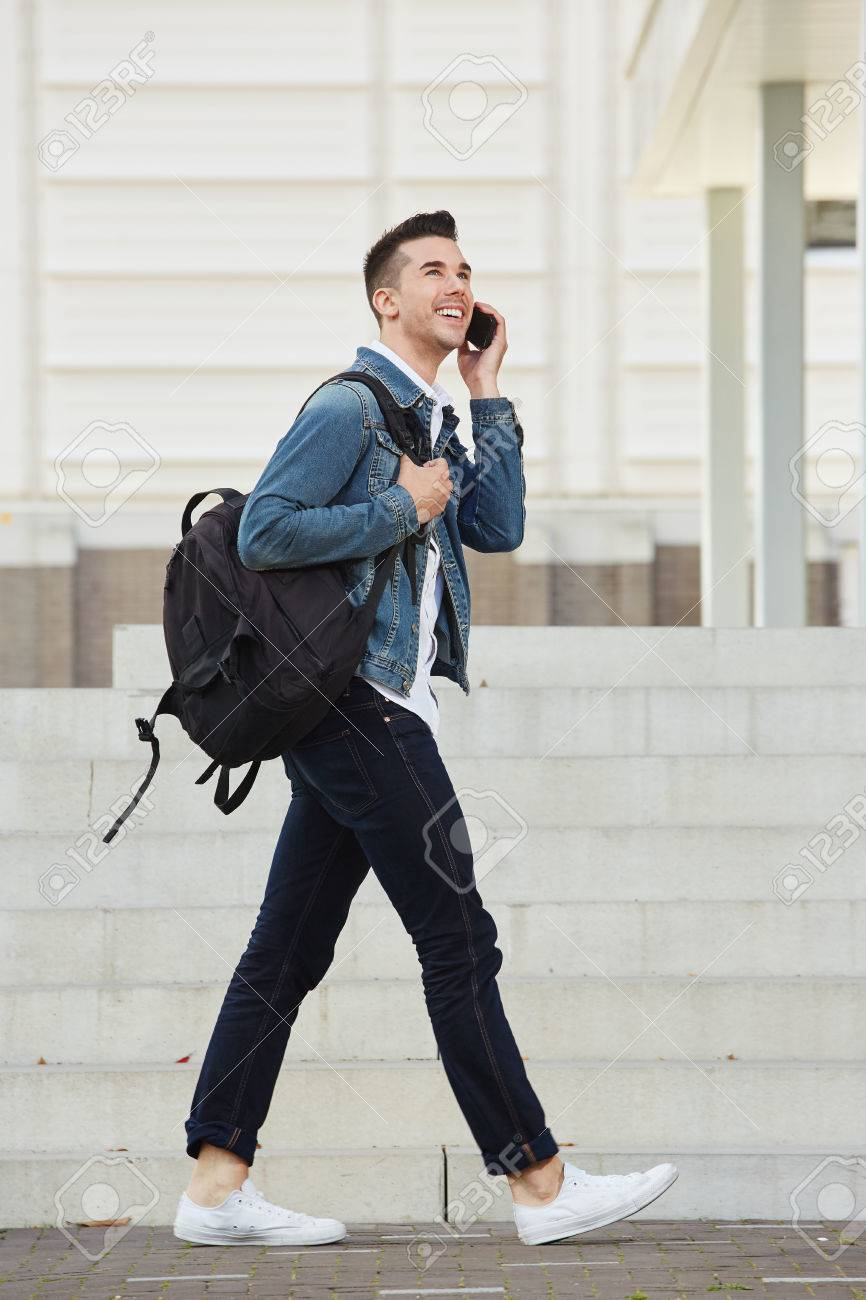person: (141, 207, 680, 1255)
